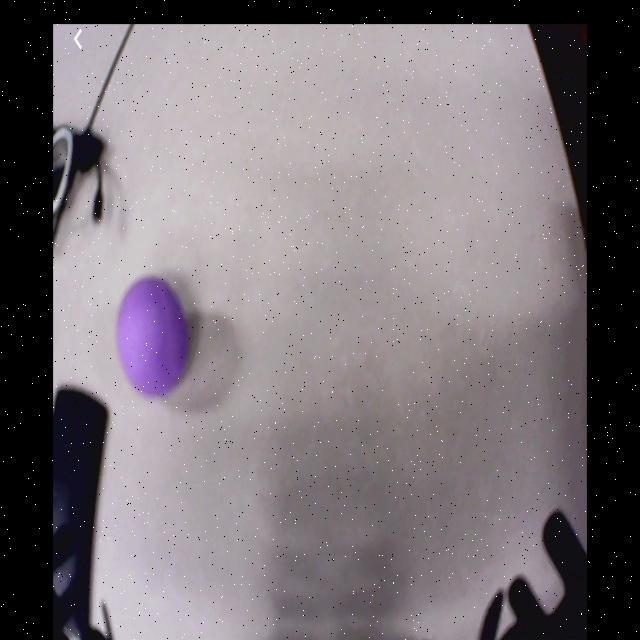ball: (118, 277, 188, 393)
